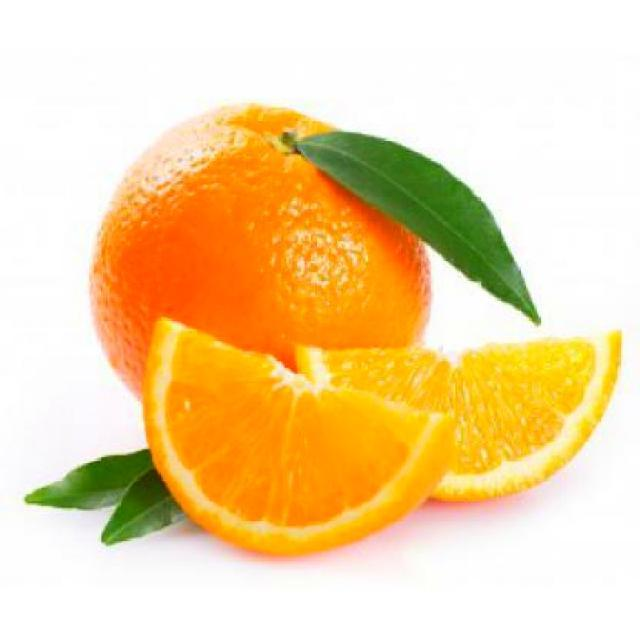Jeruk Sudah Matang: (95, 98, 437, 434)
